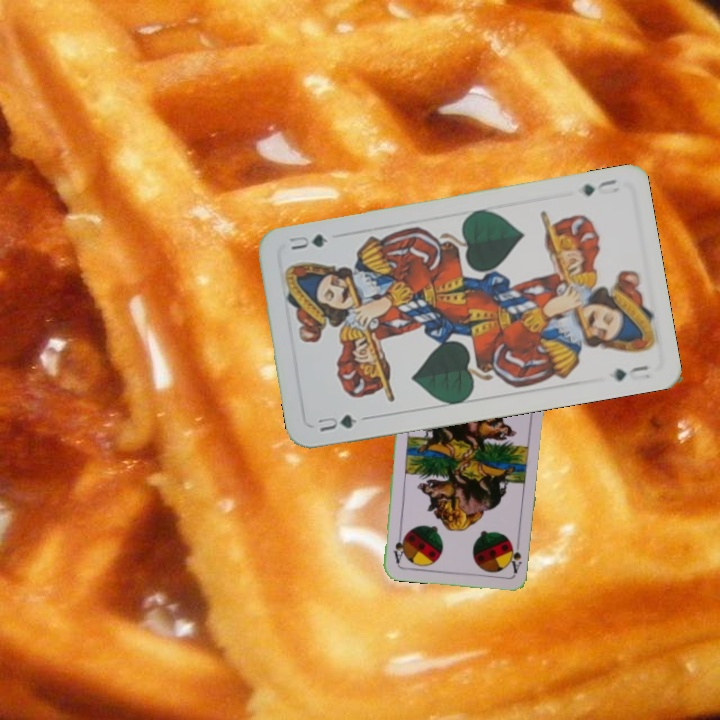GU: (313, 410, 360, 435), (578, 175, 619, 199)
SA: (505, 535, 525, 576)
